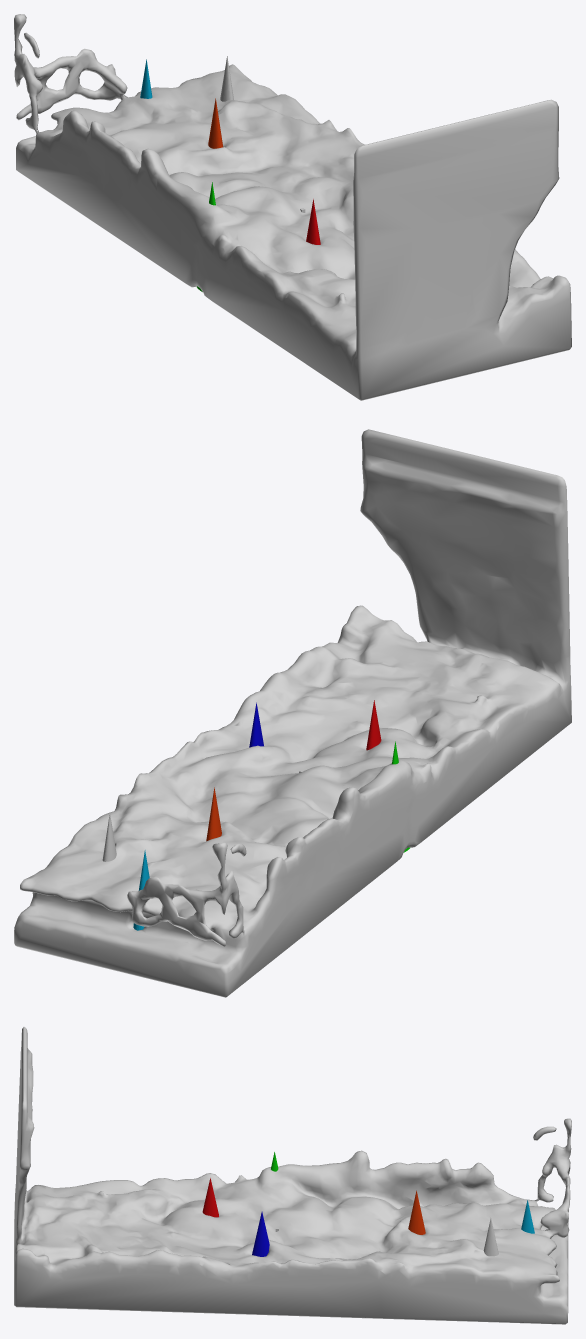
3 renders of one model, top to bottom at view 1: azimuth 30°, elevation 25°; view 2: azimuth 150°, elevation 25°; view 3: azimuth 270°, elevation 25°, orthographic. The views are drawn at different scales.
Parts seen in each view (by area): view 1: Liquid_Domain; view 2: Liquid_Domain; view 3: Liquid_Domain, 円錐.002, 円錐.004.
Boxes of the visible parts, bbox=[...] form: Liquid_Domain: bbox=[14, 14, 571, 400]; Liquid_Domain: bbox=[14, 429, 571, 997]; Liquid_Domain: bbox=[14, 1027, 571, 1324]; 円錐.002: bbox=[252, 1211, 269, 1256]; 円錐.004: bbox=[408, 1190, 425, 1234].
Size of the model in its own units: 129 by 158 by 364.
